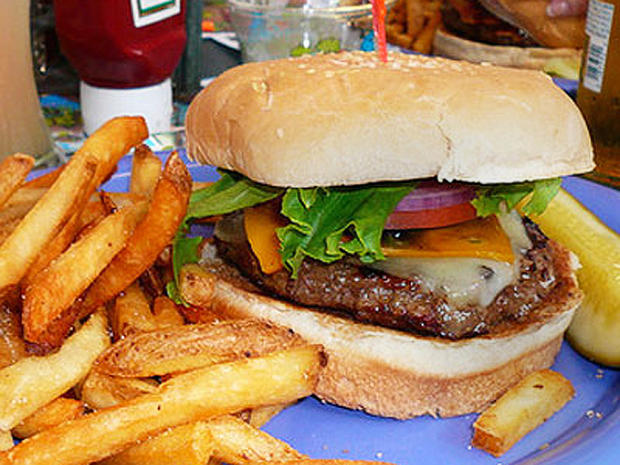hamburger_buns: (181, 47, 586, 187)
